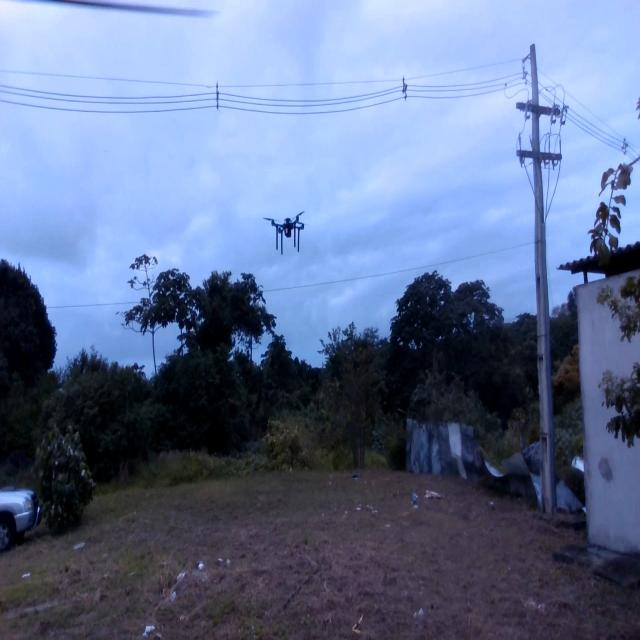-uav-: (262, 204, 330, 283)
